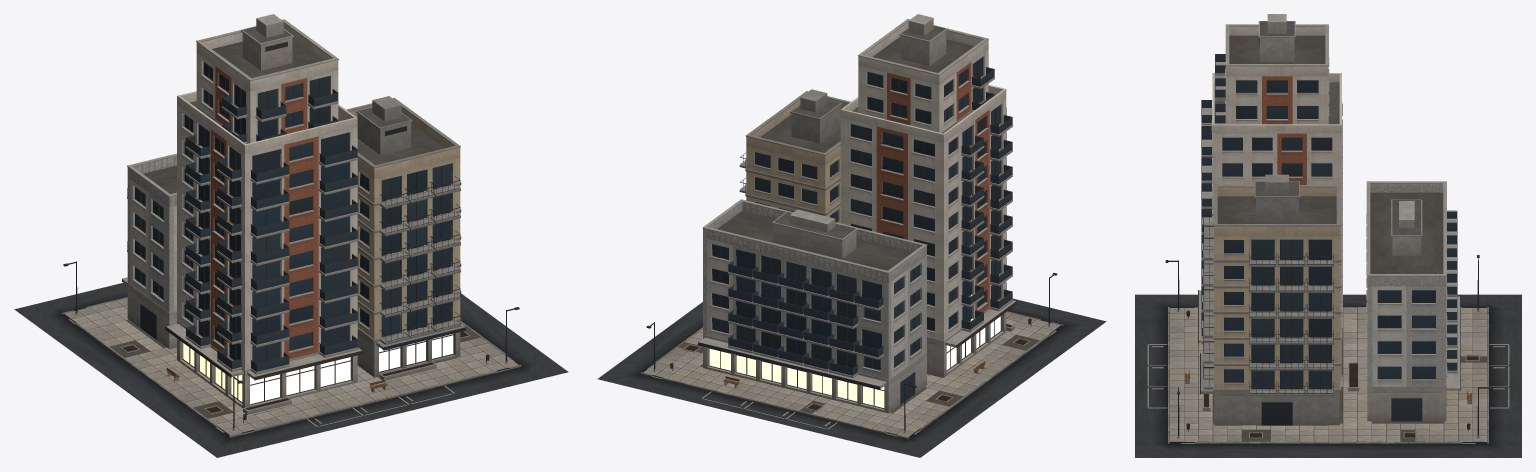
File: modulo_A_lod0.glb
3 views of the same model, side by side, from view 1: azimuth 30°, elevation 25°; view 2: azimuth 150°, elevation 25°; view 3: azimuth 270°, elevation 25° (orthographic). The views are drawn at different scales.
Parts seen in each view (by area): view 1: modulo_A_lod0_tex, modulo_A_lod0_solid; view 2: modulo_A_lod0_tex, modulo_A_lod0_solid; view 3: modulo_A_lod0_tex, modulo_A_lod0_solid.
Boxes of the visible parts, box(x1,y1,x2,y2) form: modulo_A_lod0_tex: box(14, 14, 568, 457); modulo_A_lod0_solid: box(63, 41, 519, 427); modulo_A_lod0_tex: box(597, 14, 1106, 457); modulo_A_lod0_solid: box(646, 56, 1057, 430); modulo_A_lod0_tex: box(1135, 14, 1521, 457); modulo_A_lod0_solid: box(1165, 38, 1491, 436).
Size of the model in its own units: 40 by 38.31 by 40.
11 materials, 7 textured.
